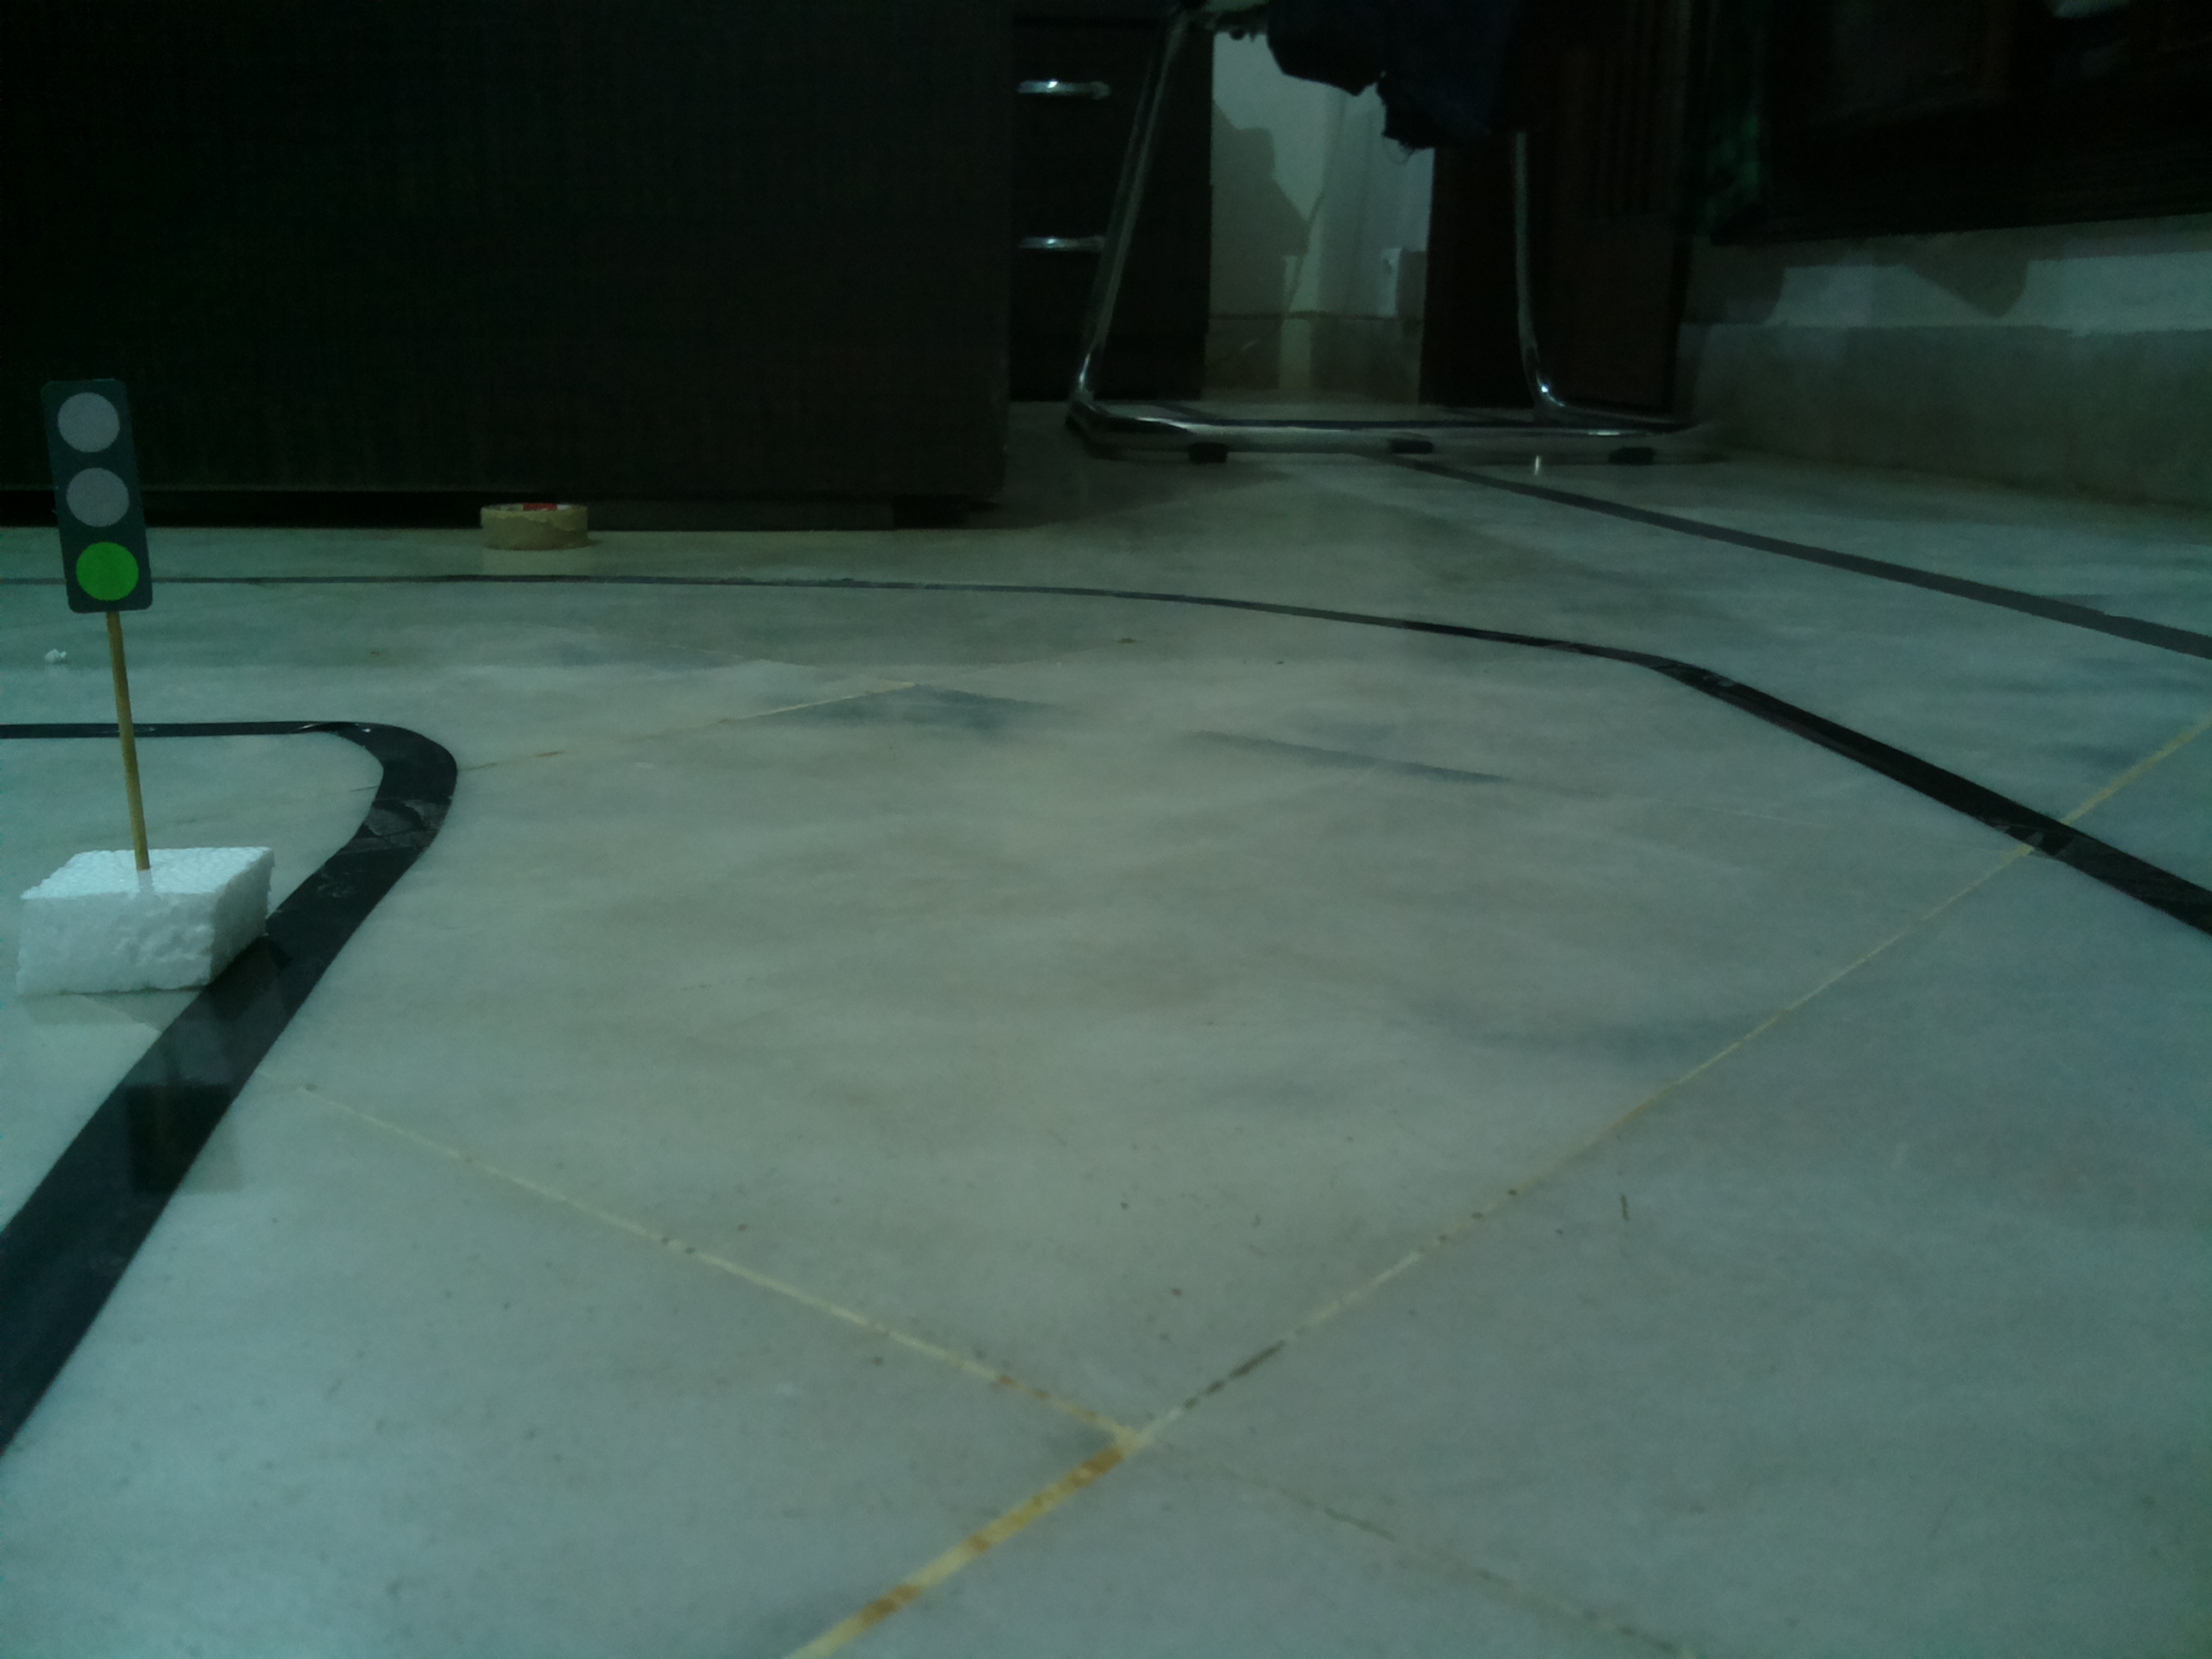Green traffic light: (40, 375, 160, 617)
